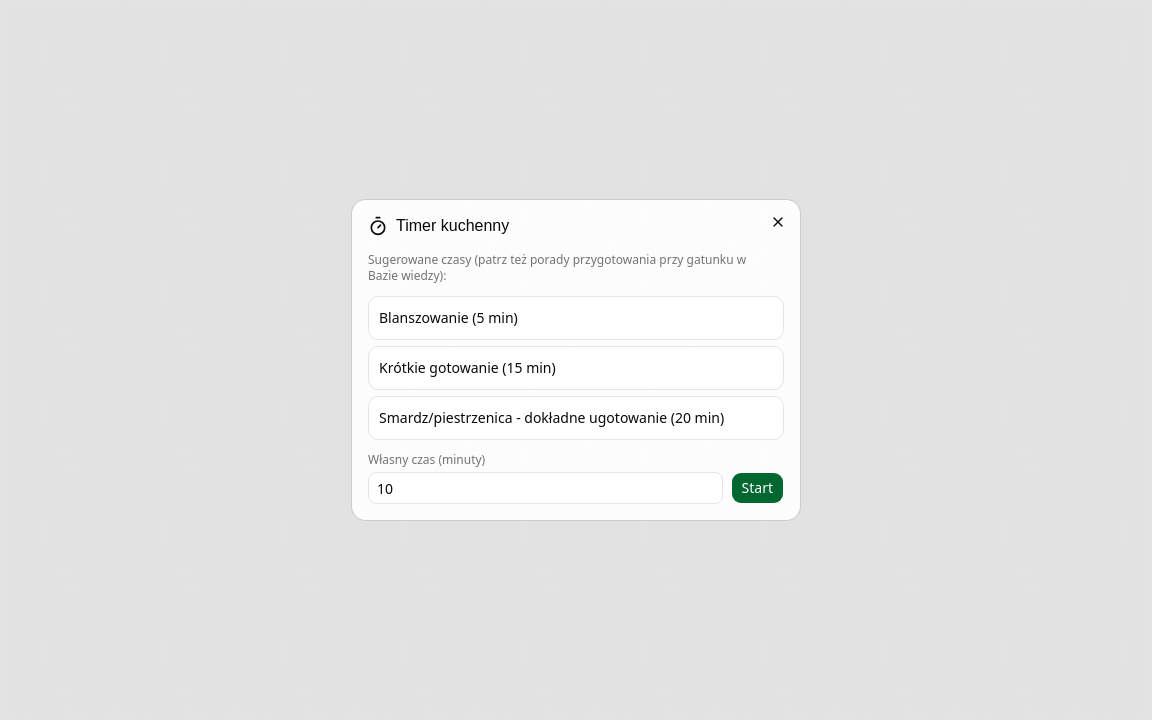
Scenario: CookingTimer › uruchamia odliczanie po wybraniu presetu i pokazuje czas
Click the button "Blanszowanie (5 min)".
click(448, 318)  # box [368,296,784,340]
Wait 1000 ms
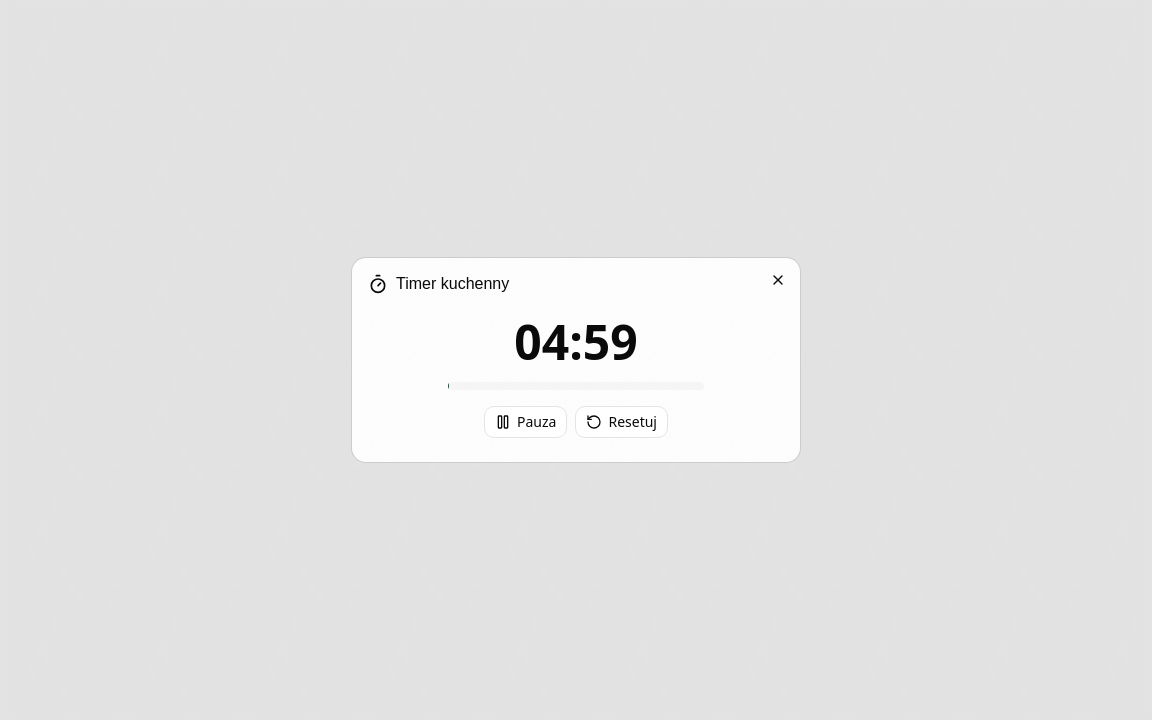
Result: the text "04:59" is shown at [514,318,638,366]
